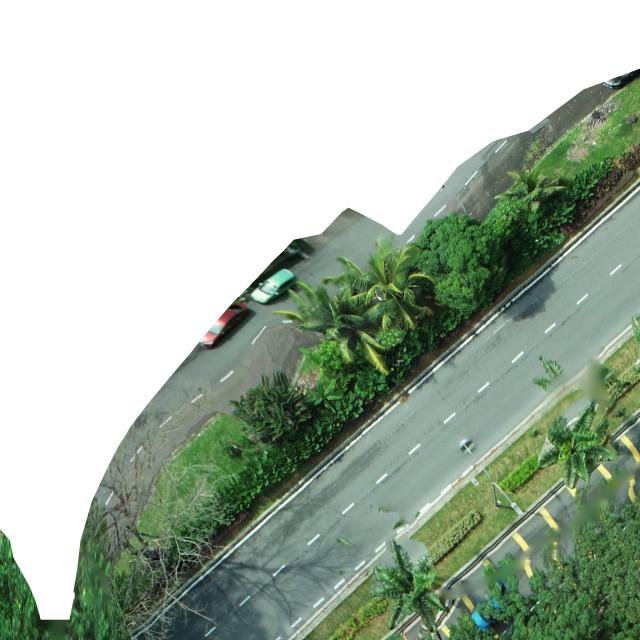banana_tree2: (304, 366, 344, 414)
tree: (322, 234, 438, 332), (272, 280, 389, 377), (409, 210, 511, 312), (536, 399, 621, 490), (370, 539, 448, 634), (228, 369, 315, 443), (492, 166, 568, 213)
